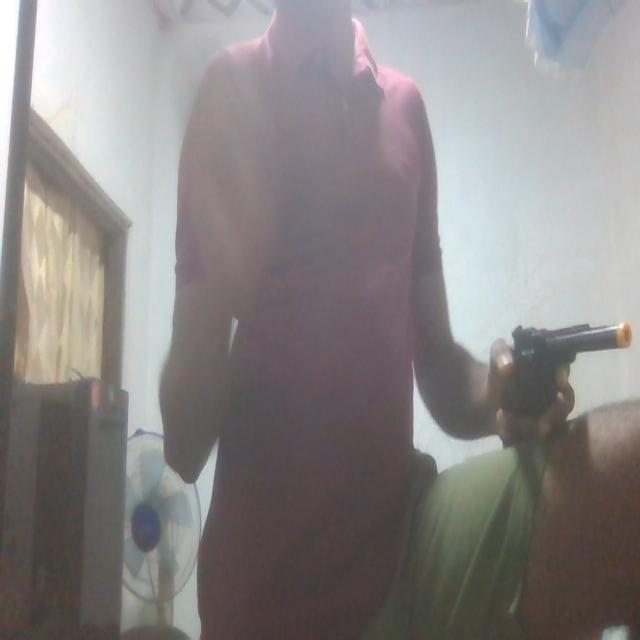Gun_Holder: (484, 300, 640, 450)
Person: (159, 0, 640, 640)
